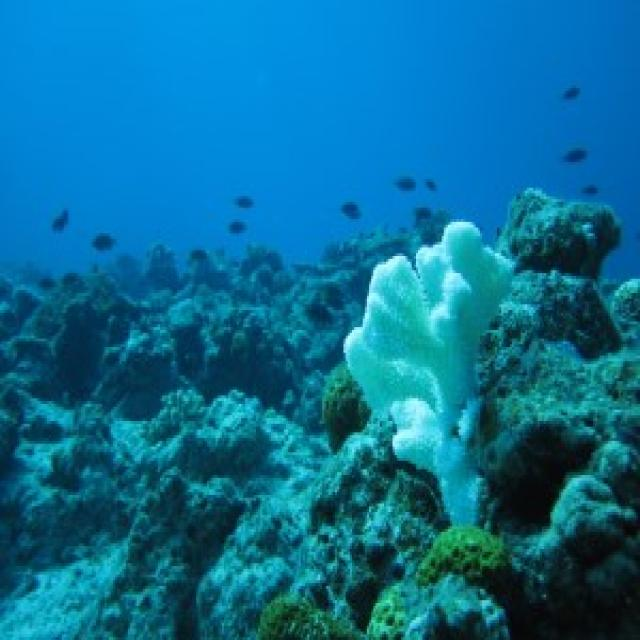Healthy: (344, 223, 513, 522)
